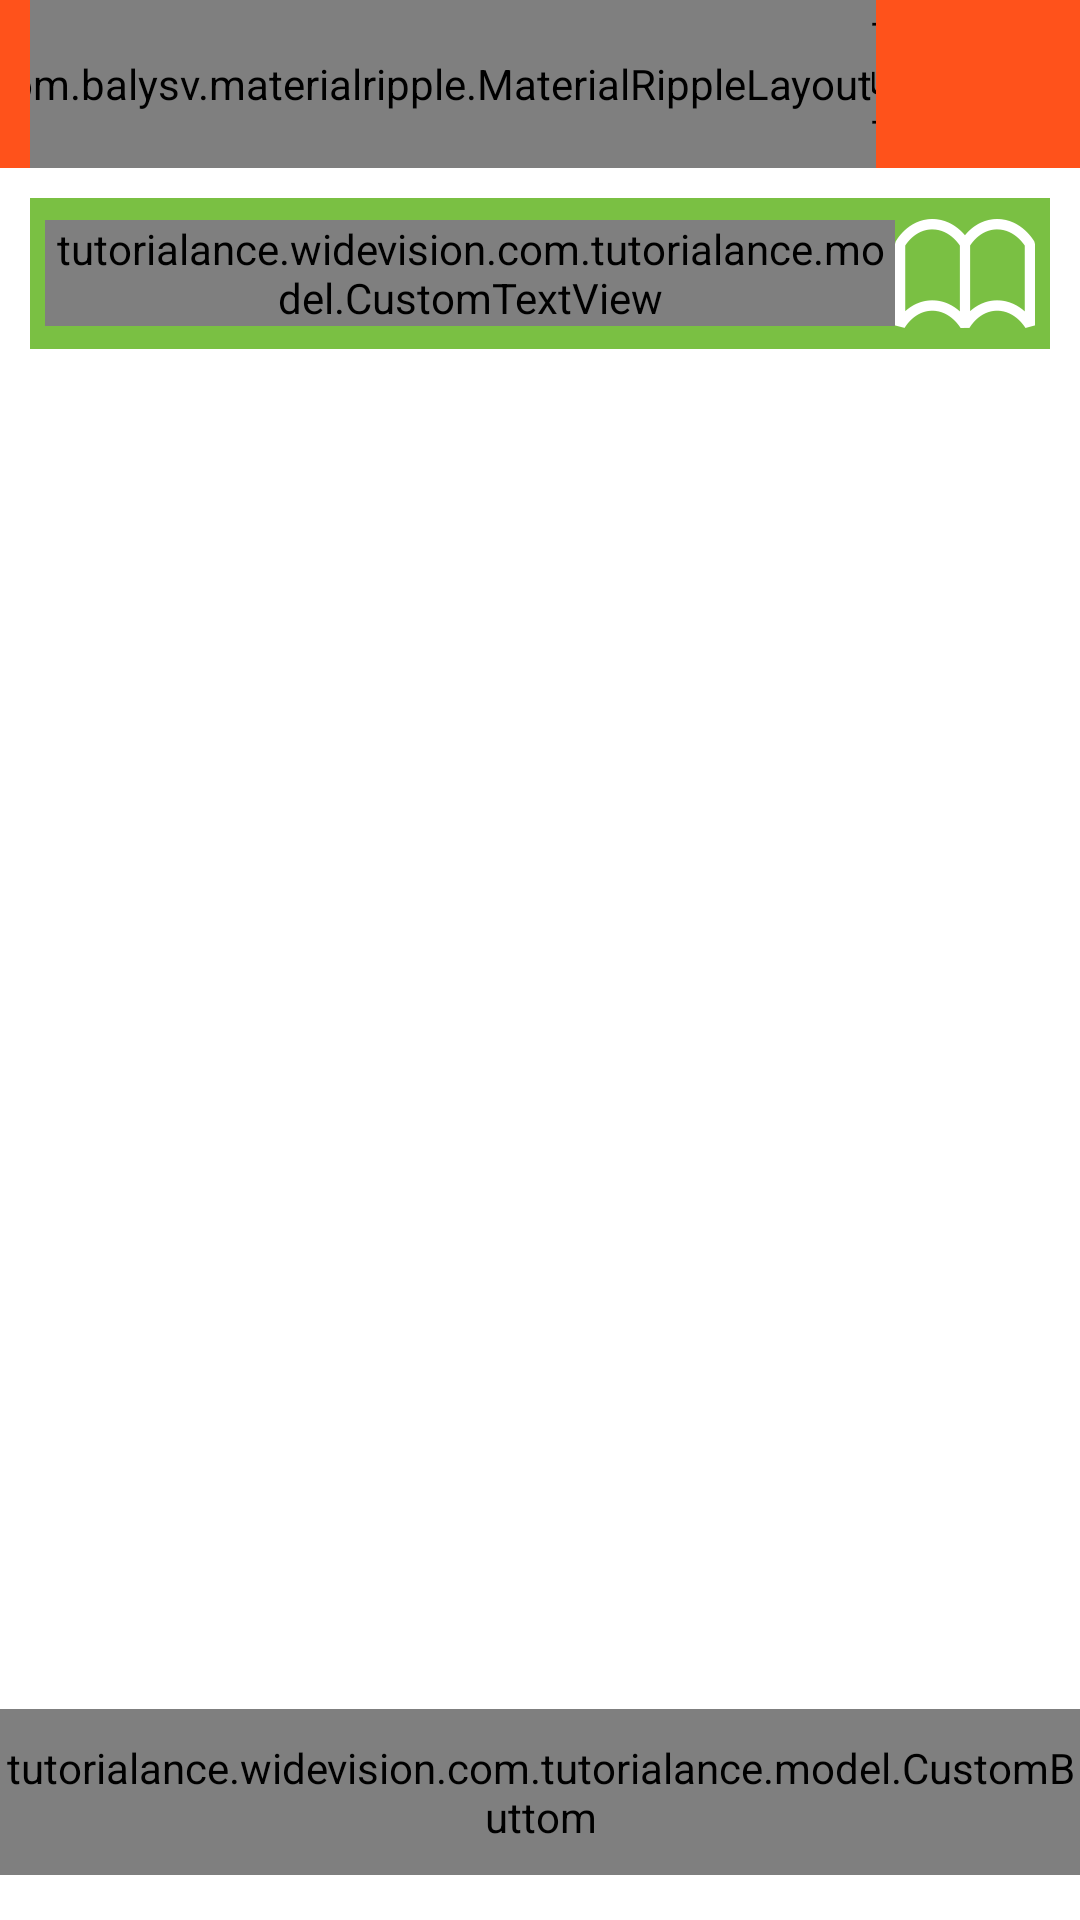

Where icons sit on this 1080 x 1920 app screen, as bbox=(x1, y1, x2, y2):
lessonicon: bbox=(895, 219, 1035, 328)
